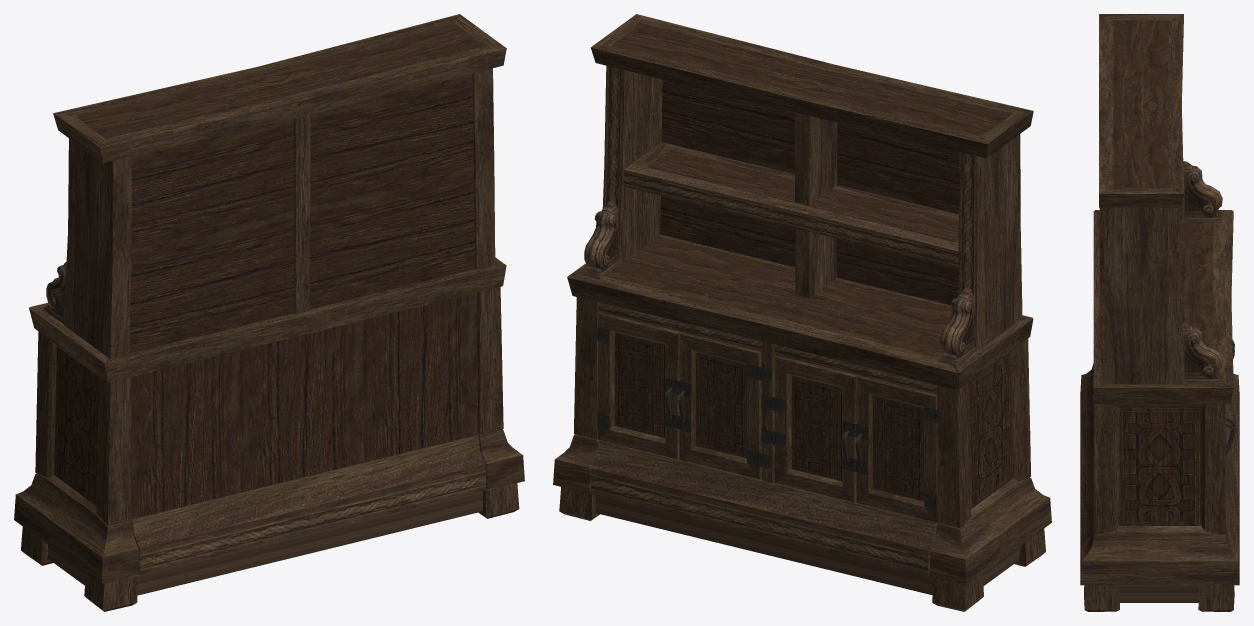
File: eso_gu2_woodfurniture27-transformed.glb
The picture shows the model from 3 angles, left to right: view 1: azimuth 30°, elevation 25°; view 2: azimuth 150°, elevation 25°; view 3: azimuth 270°, elevation 25°; orthographic projection. The views are drawn at different scales.
Visible parts, largest first — view 1: default; view 2: default; view 3: default.
Part boxes in pixels (box(x1,y1,x2,y2)): default: box(14, 14, 524, 611); default: box(553, 14, 1051, 611); default: box(1080, 14, 1239, 611).
Bounding box in the file's own units: 2.37 × 2.46 × 0.8529.
Materials: 1 (1 with a texture image).
